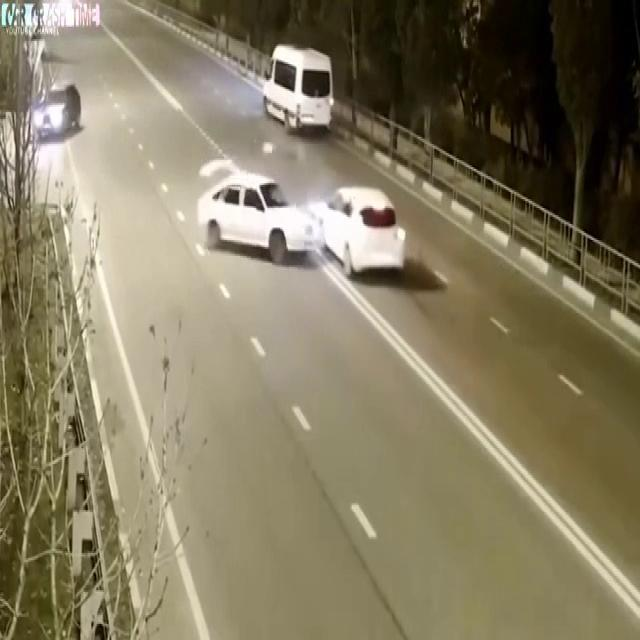accident: (182, 128, 412, 320)
